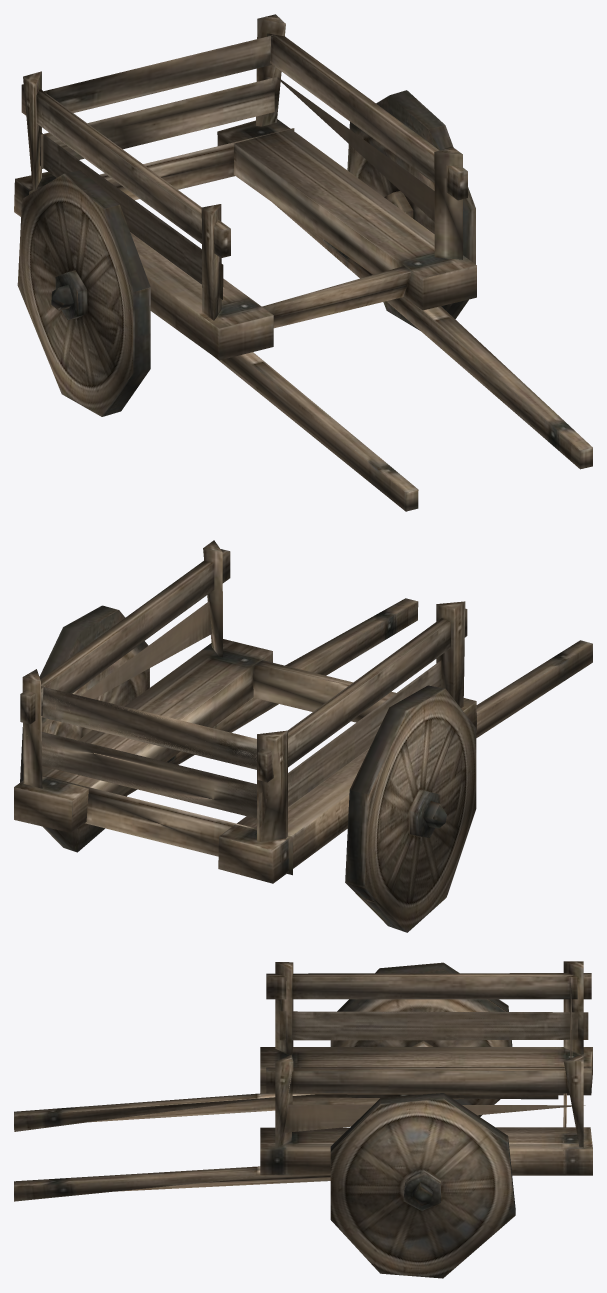
The model's file is prop-cart.glb.
3 renders of one model, top to bottom at view 1: azimuth 30°, elevation 25°; view 2: azimuth 150°, elevation 25°; view 3: azimuth 270°, elevation 25°, orthographic. The views are drawn at different scales.
Parts seen in each view (by area): view 1: turn; view 2: turn; view 3: turn.
Part boxes in pixels (x1,y1,x2,y2): turn: (14, 14, 592, 511); turn: (14, 540, 592, 932); turn: (14, 961, 592, 1278).
Bounding box in the file's own units: 0.6108 × 0.3618 × 0.9531.
Materials: 1 (1 with a texture image).
